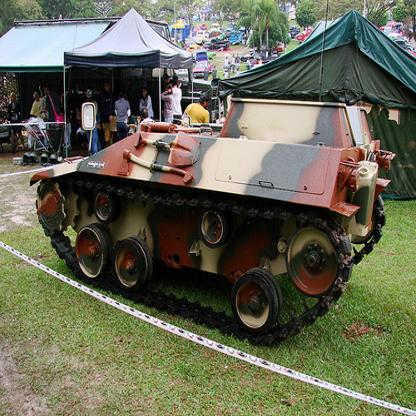Tank: (27, 87, 394, 359)
